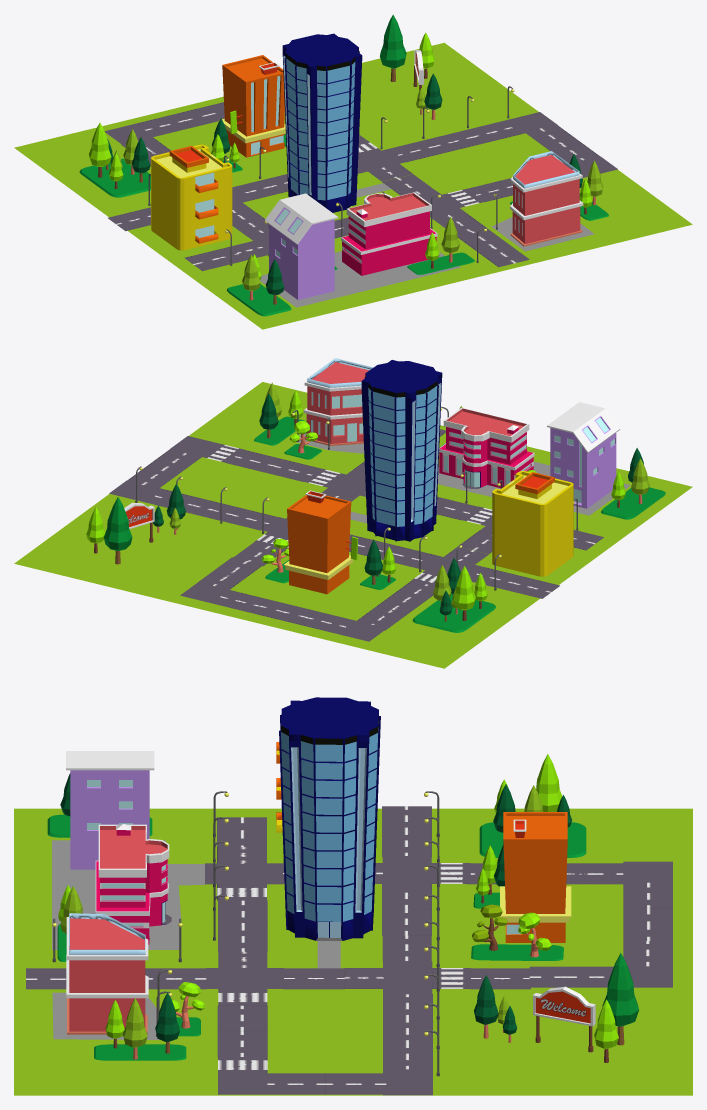
File: city nirmal windows .fbx
3 views of the same model, one above another, from view 1: azimuth 30°, elevation 25°; view 2: azimuth 150°, elevation 25°; view 3: azimuth 270°, elevation 25° (orthographic). The views are drawn at different scales.
Visible parts, largest first — view 1: Plane, Cube.001, Cube, Cube.006, Cube.005, Cube.004, Cube.003, Cube.002, Plane.009, Plane.007, Plane.048, Plane.032 (+27 smaller); view 2: Plane, Cube, Cube.001, Cube.006, Cube.002, Cube.005, Cube.004, Cube.003, Plane.048, Plane.022, Plane.003, Cylinder.021 (+36 smaller); view 3: Plane, Cube, Cube.006, Cube.003, Cube.002, Cube.004, Cube.005, Plane.009, Plane.003, Plane.007, Plane.010, Plane.022 (+44 smaller).
Boxes of the visible parts, bbox=[...] form: Plane: bbox=[14, 42, 692, 329]; Cube.001: bbox=[151, 144, 232, 250]; Cube: bbox=[282, 33, 362, 212]; Cube.006: bbox=[286, 58, 355, 200]; Cube.005: bbox=[341, 192, 437, 275]; Cube.004: bbox=[265, 193, 338, 299]; Cube.003: bbox=[510, 151, 583, 246]; Cube.002: bbox=[219, 55, 285, 157]; Plane.009: bbox=[260, 251, 460, 307]; Plane.007: bbox=[357, 140, 412, 181]; Plane.048: bbox=[79, 158, 150, 197]; Plane.032: bbox=[227, 284, 291, 316]; Plane: bbox=[14, 382, 692, 668]; Cube: bbox=[361, 360, 442, 541]; Cube.001: bbox=[492, 471, 573, 576]; Cube.006: bbox=[368, 386, 437, 526]; Cube.002: bbox=[283, 490, 358, 594]; Cube.005: bbox=[439, 407, 534, 488]; Cube.004: bbox=[547, 402, 620, 508]; Cube.003: bbox=[303, 358, 373, 445]; Plane.048: bbox=[412, 594, 495, 632]; Plane.022: bbox=[411, 546, 488, 586]; Plane.003: bbox=[303, 468, 365, 499]; Cylinder.021: bbox=[104, 497, 132, 564]; Plane: bbox=[14, 808, 692, 1095]; Cube: bbox=[279, 697, 380, 940]; Cube.006: bbox=[281, 721, 378, 921]; Cube.003: bbox=[66, 913, 148, 1034]; Cube.002: bbox=[500, 812, 571, 942]; Cube.004: bbox=[66, 751, 154, 869]; Cube.005: bbox=[95, 824, 171, 944]; Plane.009: bbox=[52, 840, 205, 949]; Plane.003: bbox=[206, 951, 283, 1005]; Plane.007: bbox=[344, 961, 470, 994]; Plane.010: bbox=[205, 847, 283, 900]; Plane.022: bbox=[375, 856, 470, 889].
Size of the model in its own units: 6274 by 2121 by 6235.
1 material, 1 textured.
